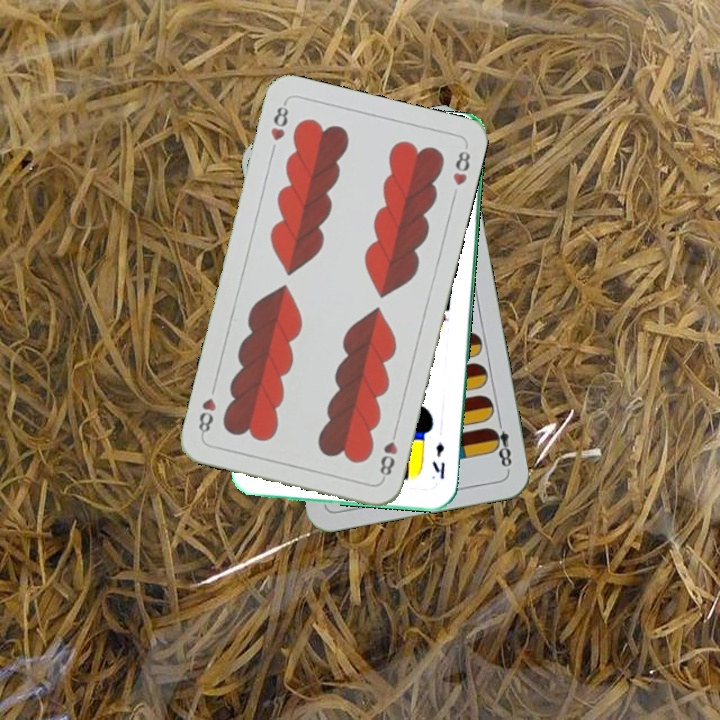E8: (486, 414, 515, 473)
EK: (428, 438, 447, 481)
H8: (375, 424, 400, 482), (266, 98, 291, 144)
